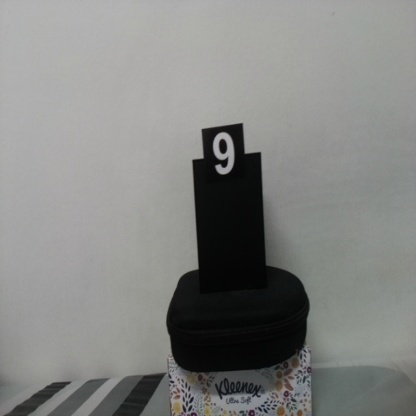id_9: (202, 130, 245, 192)
